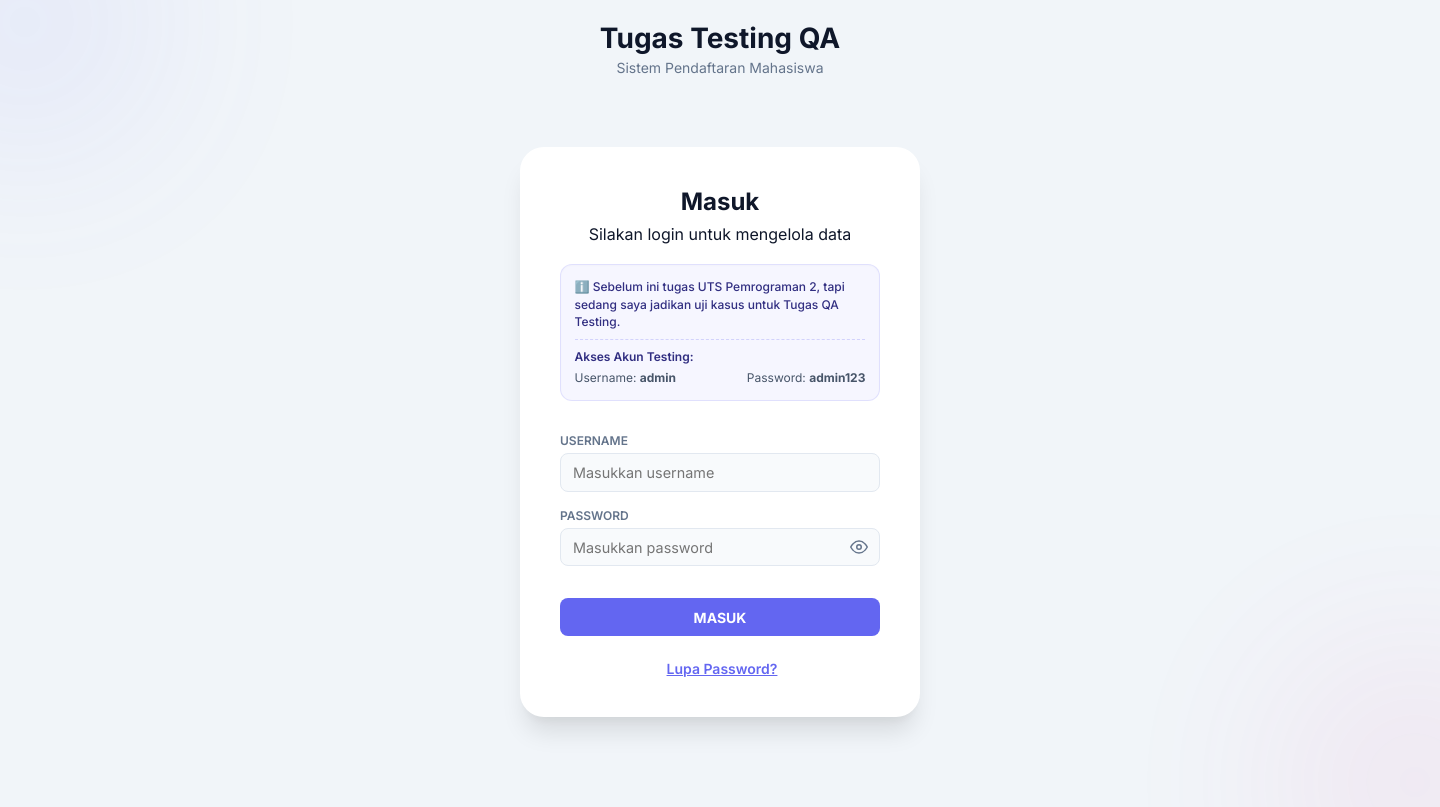
it: App Component › Student Management - CRUD Flow › 20. should cancel edit mode correctly
The image size is (1440, 807).
Type "admin" into the field labelled "Username". click: point(720, 473)
box: [560,454,880,492]
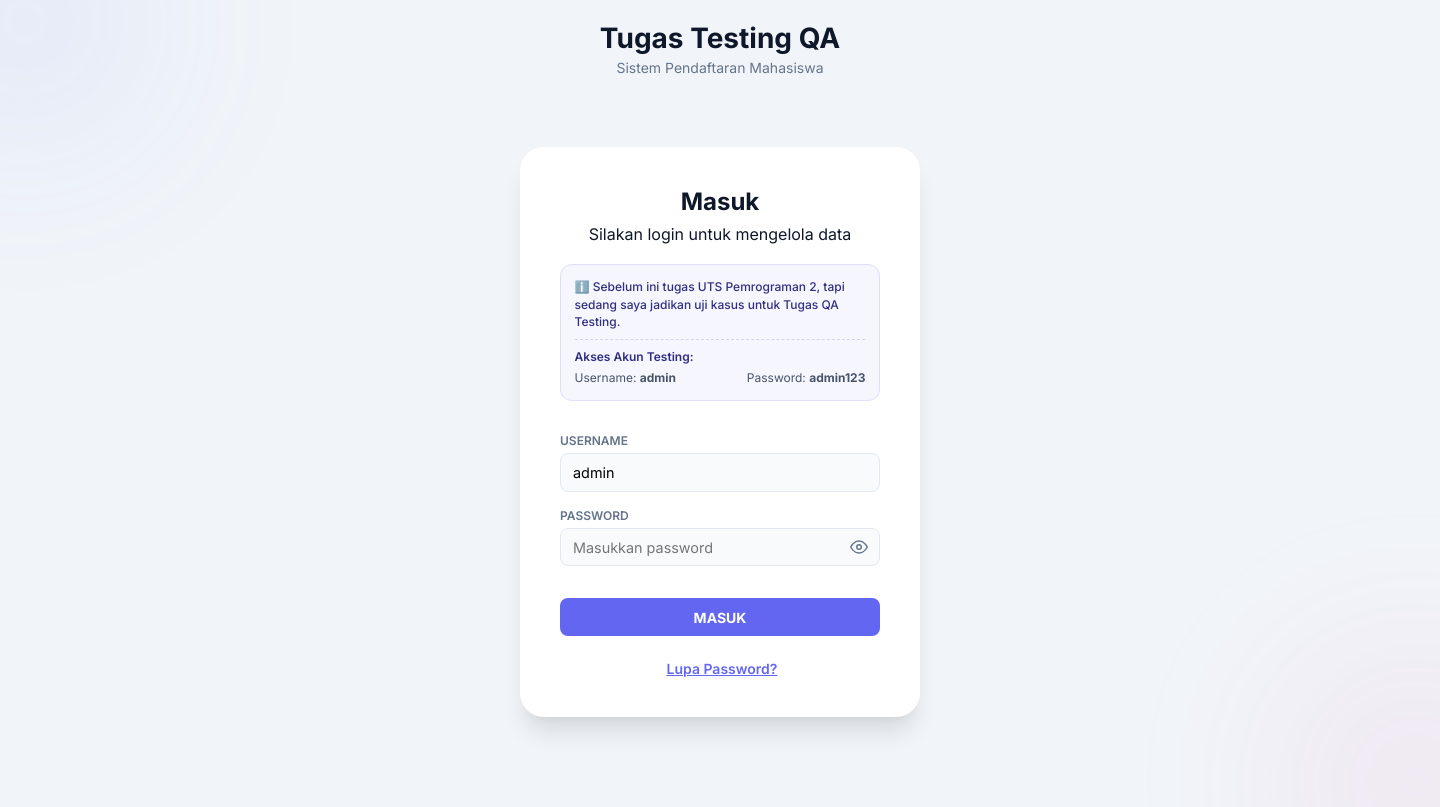
Type "admin123" into the password field labelled "Password". click: point(720, 547)
box: [560,528,880,566]
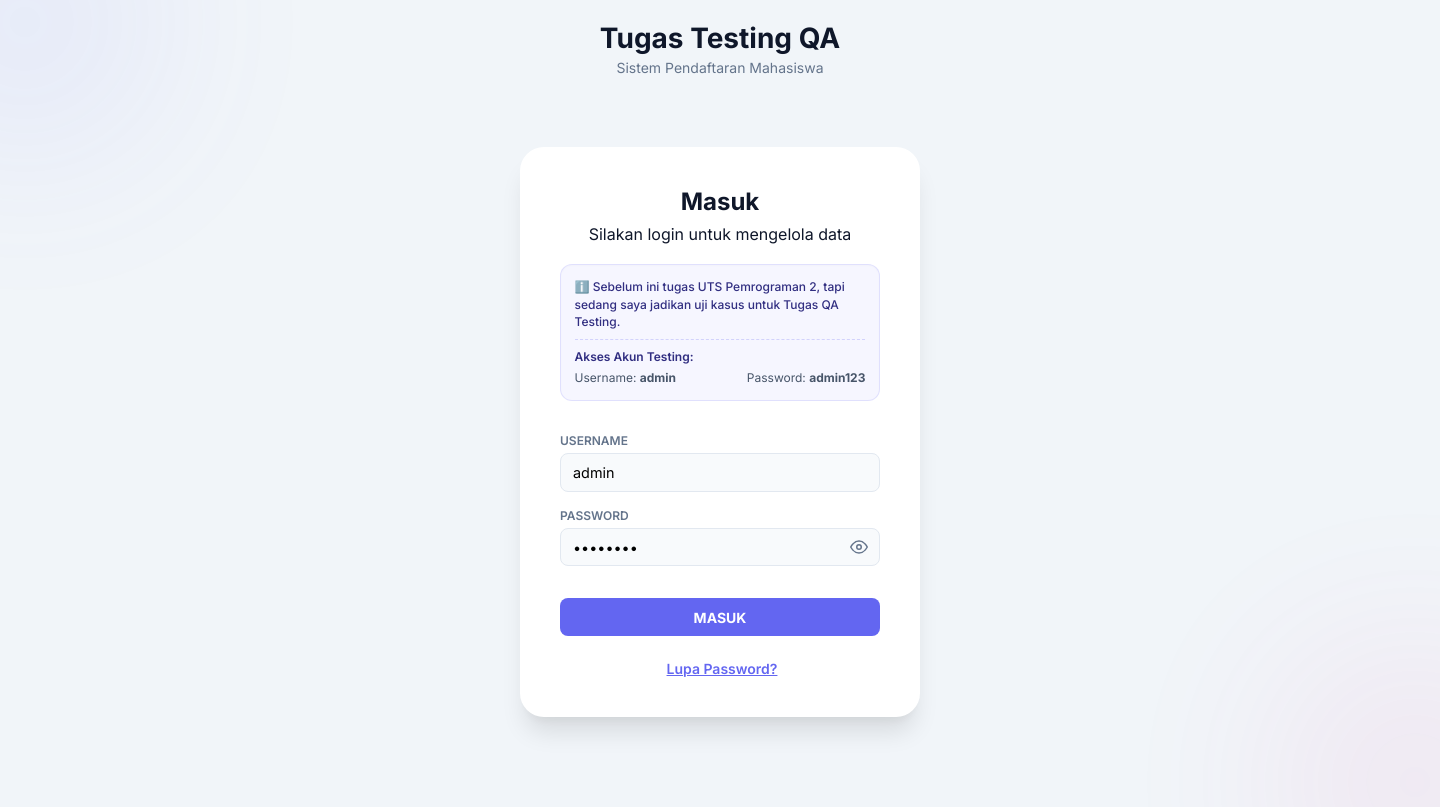
Click the button "MASUK". click: point(720, 617)
box: [560,598,880,636]
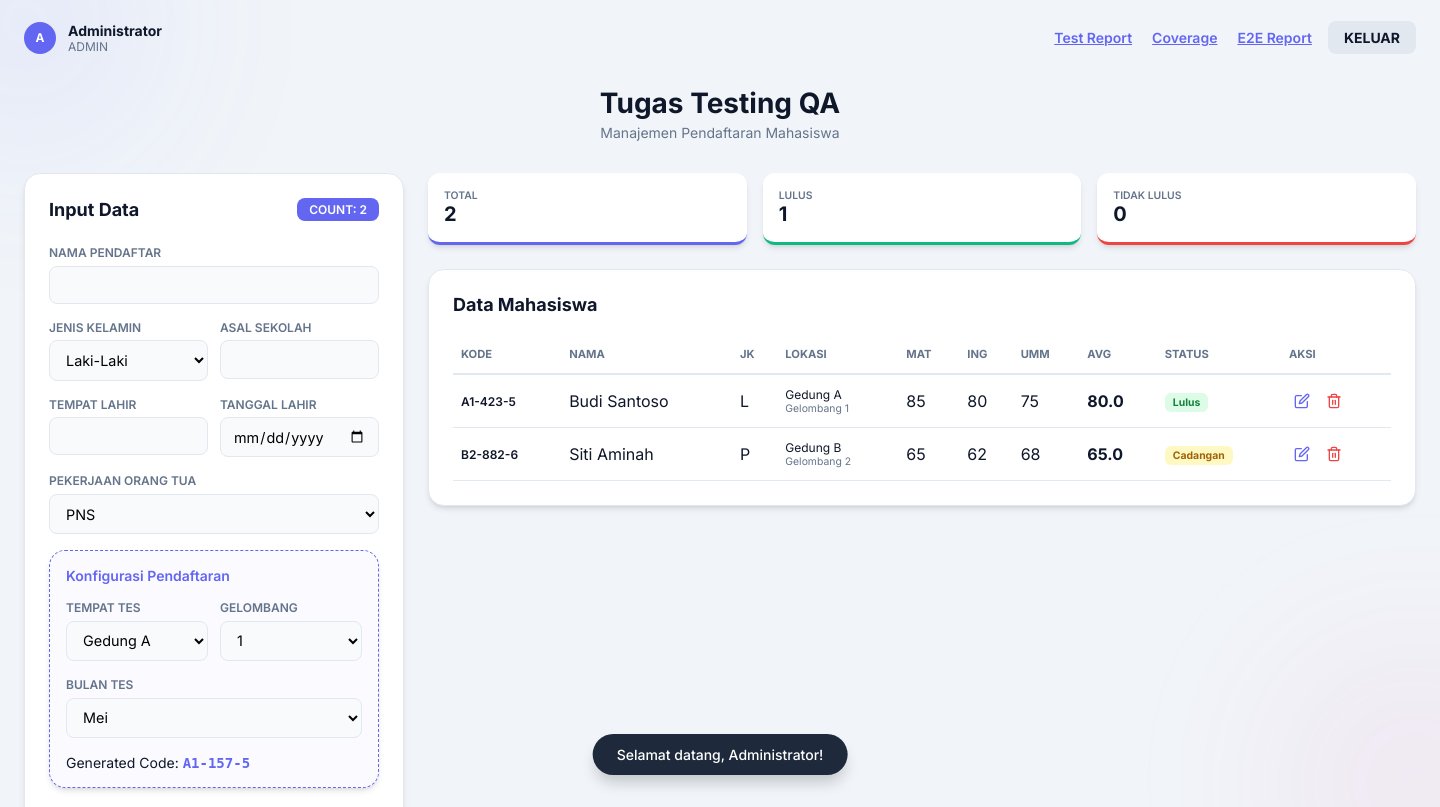
Click the 2nd button. click: point(1302, 401)
box: [1289,387,1316,415]
(page scrolled)
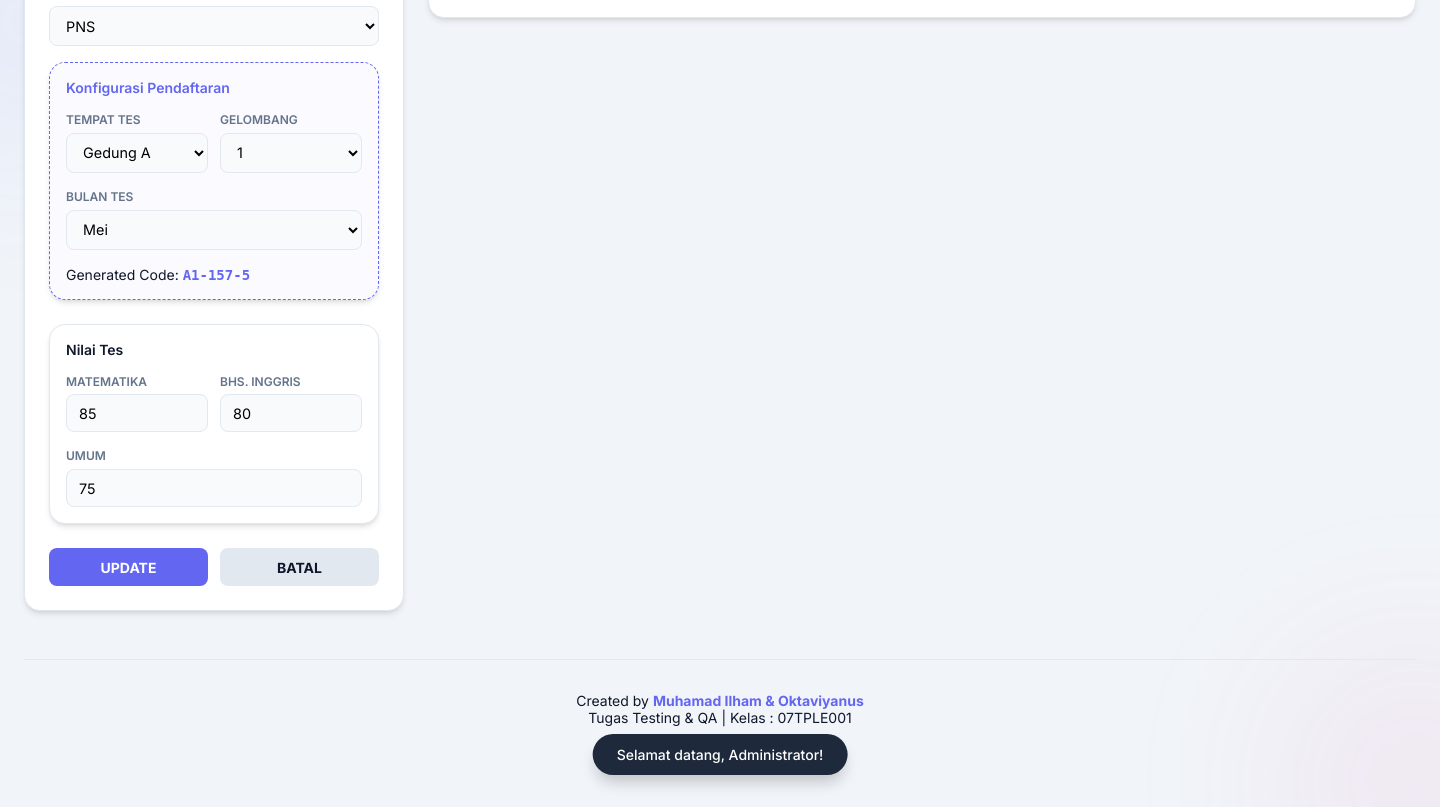
Click the button "BATAL". click: point(300, 567)
box: [220,548,379,586]
(page scrolled)
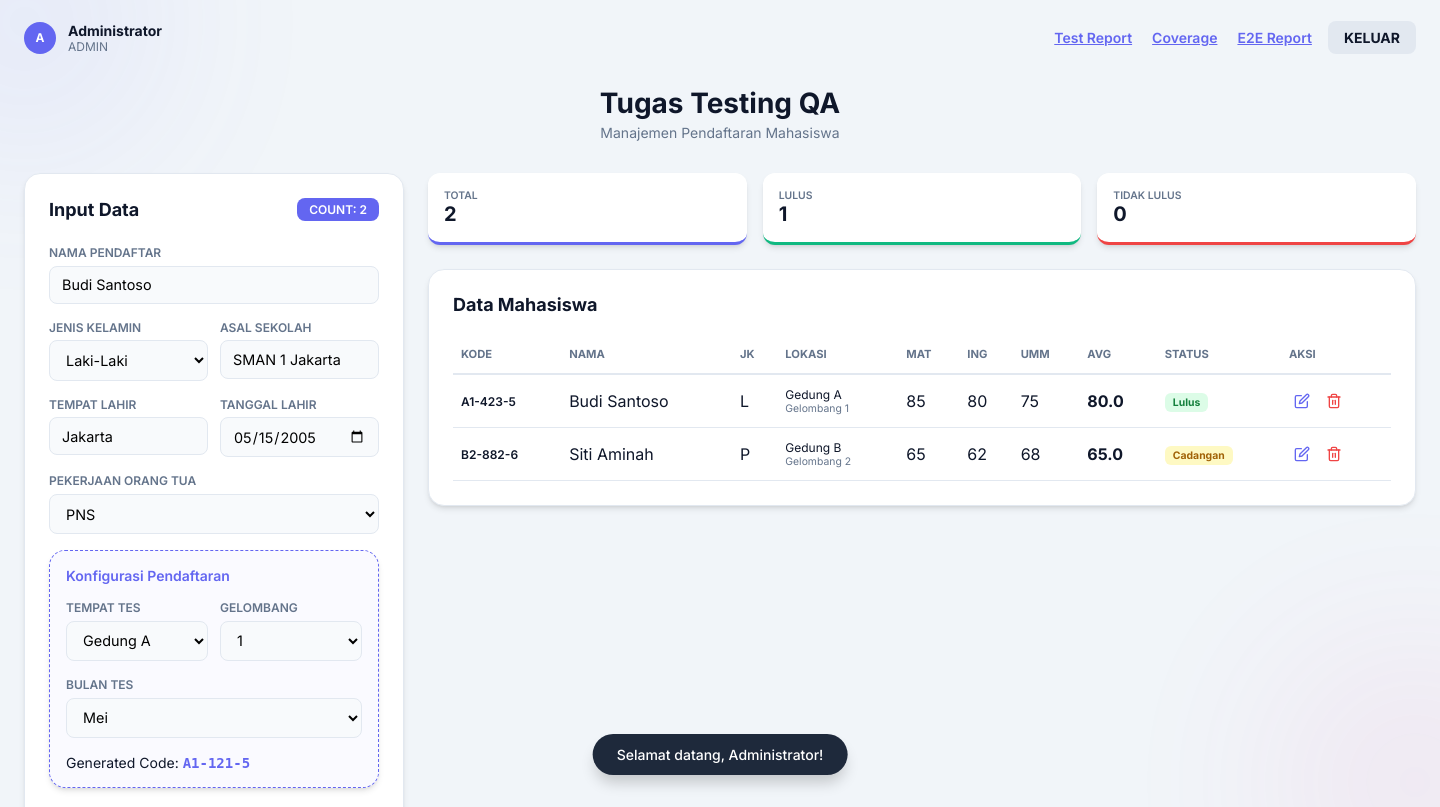
Expected: the heading "Input Data" is shown, [49,199,139,220]
